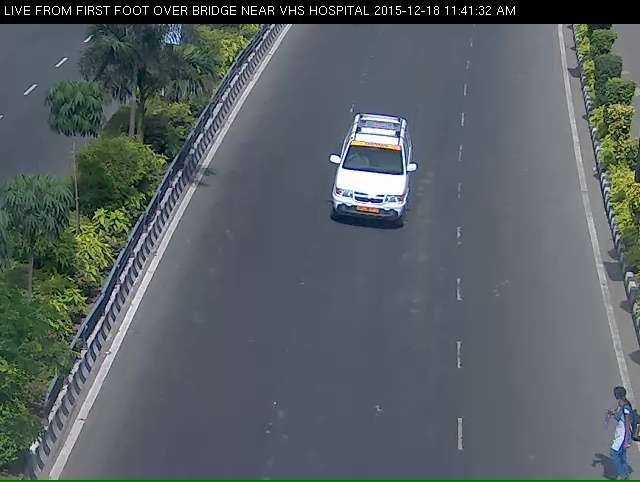Car: (325, 124, 416, 256)
Person: (596, 387, 616, 480)
